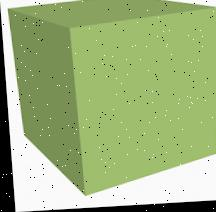cube: (7, 0, 216, 199)
